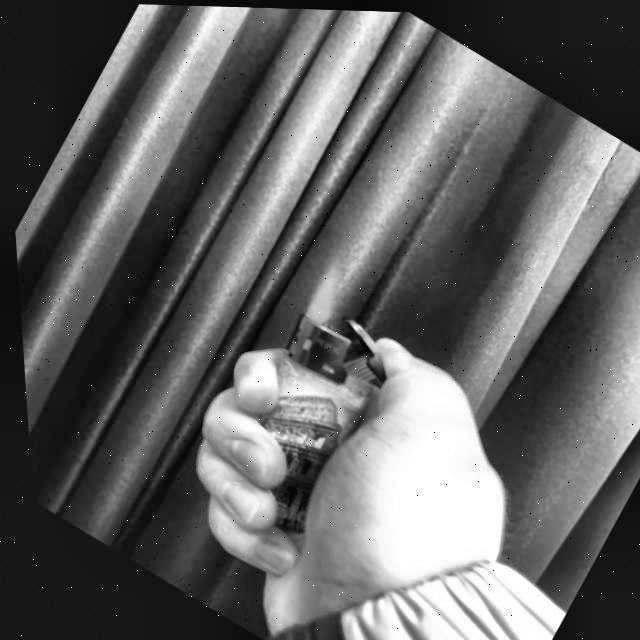Fire: (293, 255, 354, 327)
